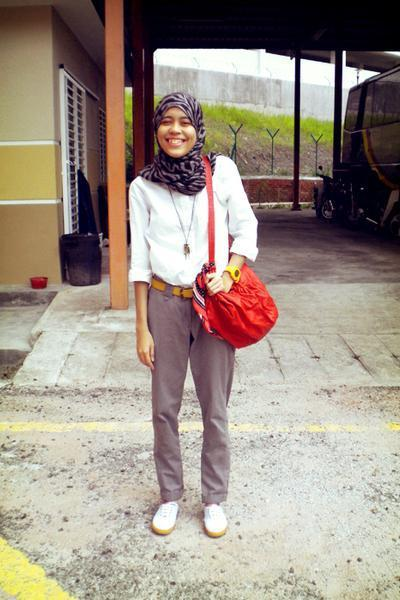bag: (191, 161, 275, 347)
shirt: (129, 156, 258, 299)
shoe: (153, 492, 228, 537)
